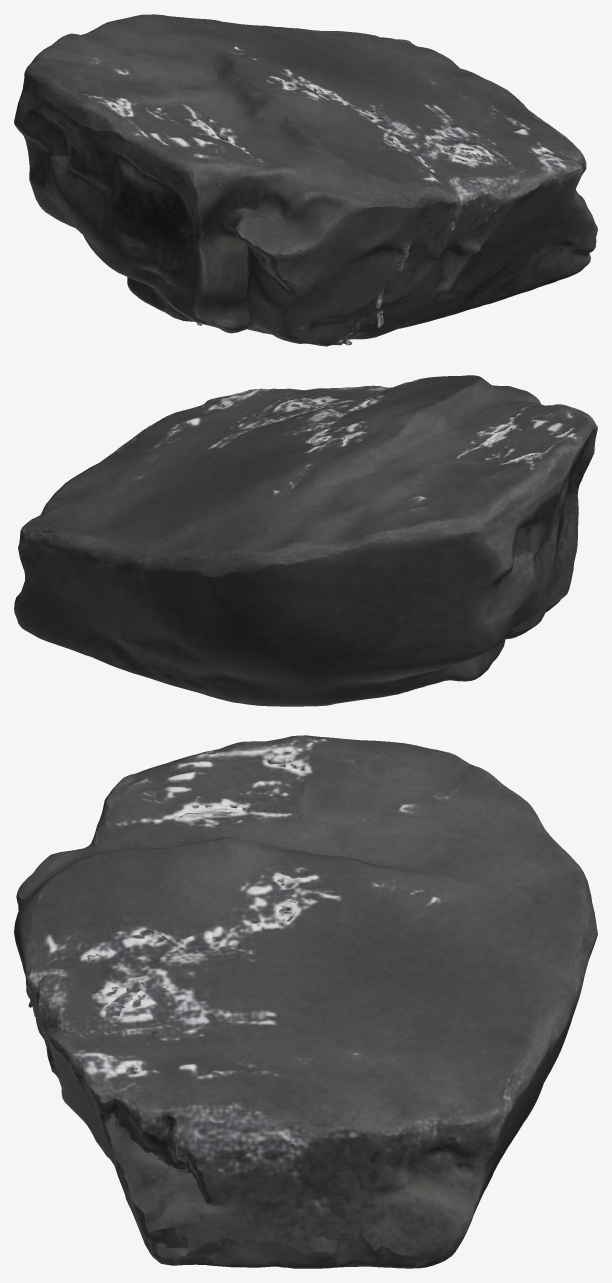
Rendered from tex_mesh.glb.
The picture shows the model from 3 angles, top to bottom: view 1: azimuth 30°, elevation 25°; view 2: azimuth 150°, elevation 25°; view 3: azimuth 270°, elevation 25°; orthographic projection. The views are drawn at different scales.
Parts seen in each view (by area): view 1: world; view 2: world; view 3: world.
Boxes of the visible parts, box(x1,y1,x2,y2) form: world: box(14, 14, 597, 346); world: box(14, 375, 597, 706); world: box(14, 735, 597, 1268).
Bounding box in the file's own units: 0.32 × 0.1542 × 0.2918.
1 material, 1 textured.
